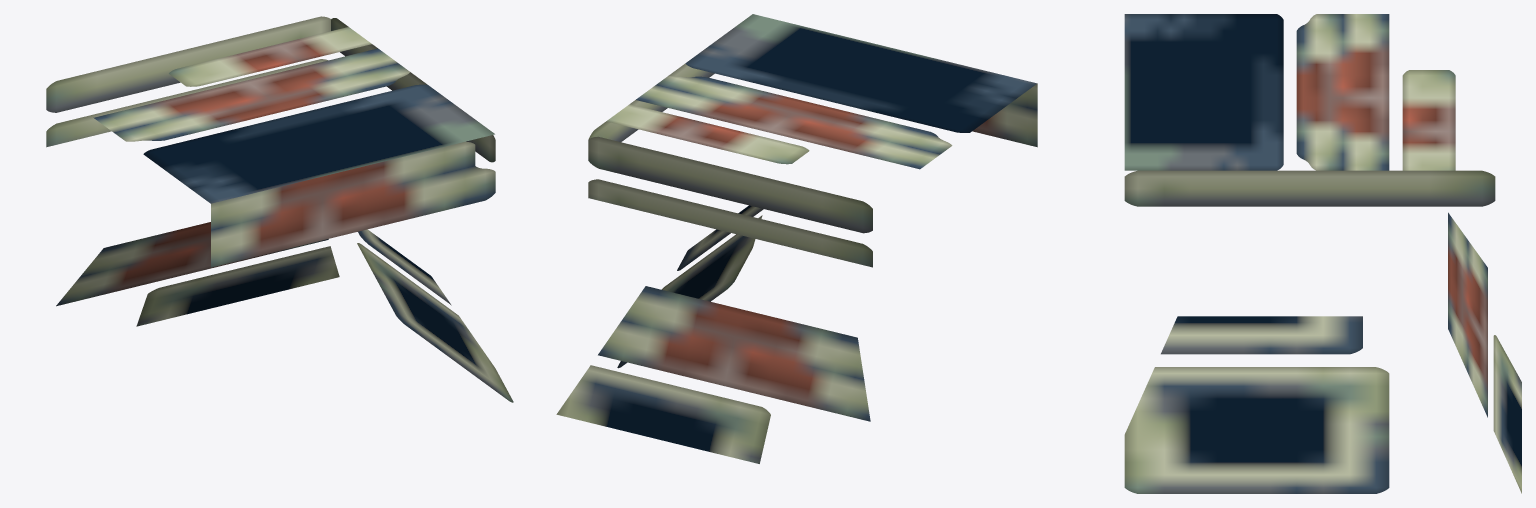
Rendered from smeltery_top_soulfire.obj.
3 renders of one model, left to right at view 1: azimuth 30°, elevation 25°; view 2: azimuth 150°, elevation 25°; view 3: azimuth 270°, elevation 25°, orthographic. The views are drawn at different scales.
Visible parts, largest first — view 1: cube.002, cuboid; view 2: cube.002, cuboid; view 3: cube.002, cuboid.
Boxes of the visible parts, x1,y1,x2,y2 form: cube.002: [46, 16, 495, 267]; cuboid: [56, 222, 513, 402]; cube.002: [588, 14, 1037, 267]; cuboid: [556, 205, 870, 463]; cube.002: [1124, 14, 1495, 206]; cuboid: [1124, 212, 1521, 493].
Size of the model in its own units: 1 by 0.8125 by 1.
